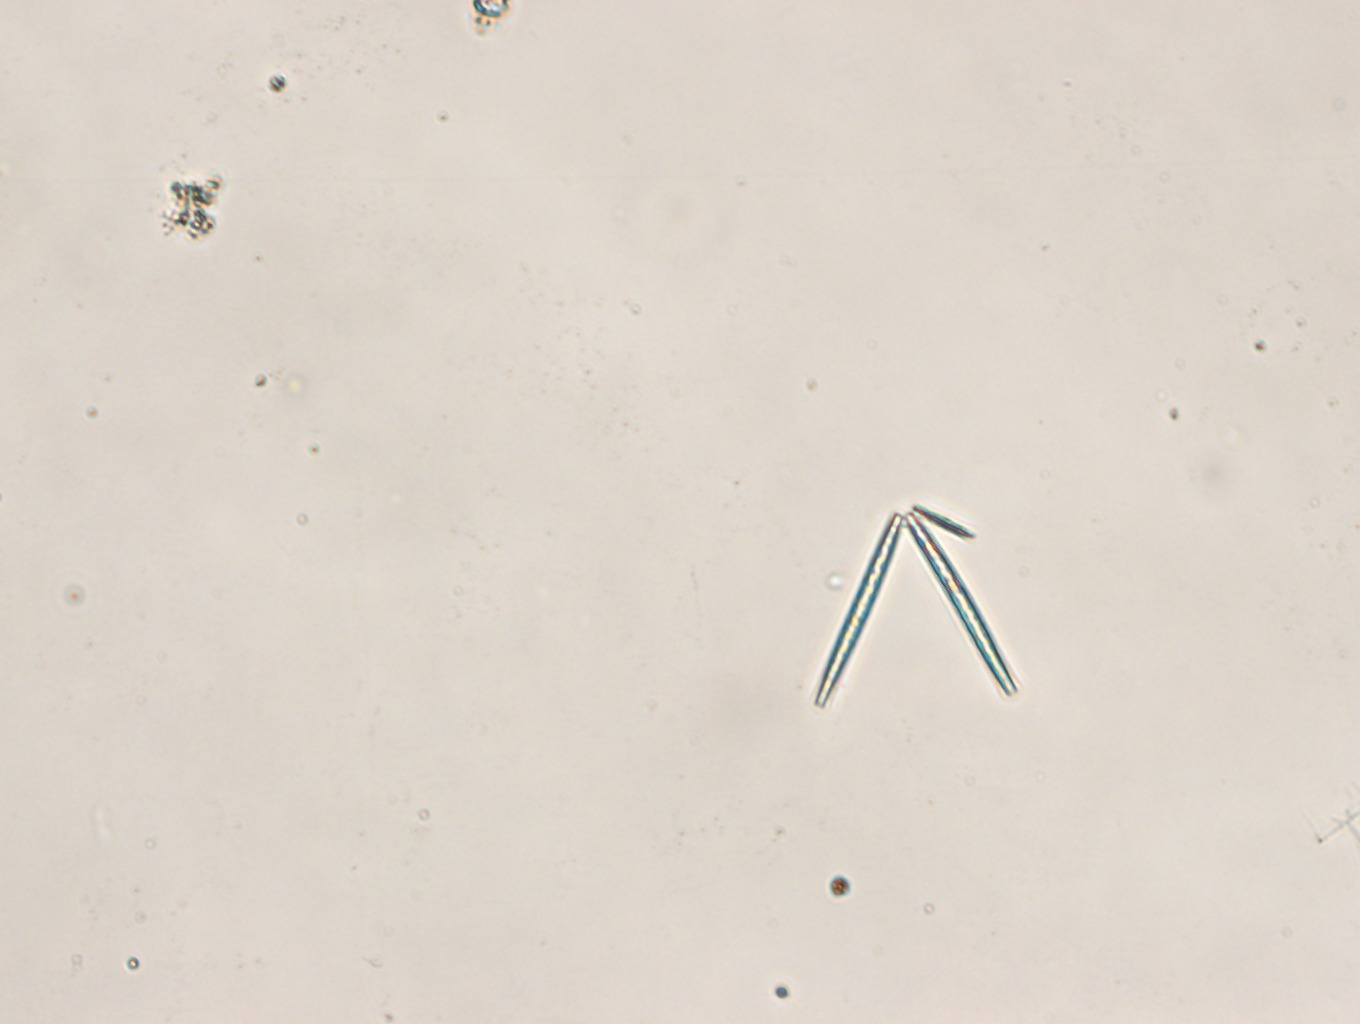thalassionema nitzschioides: (814, 511, 1018, 711)
